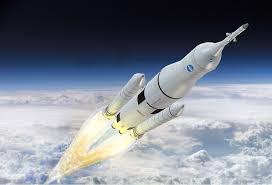ten_lua: (105, 10, 237, 145)
